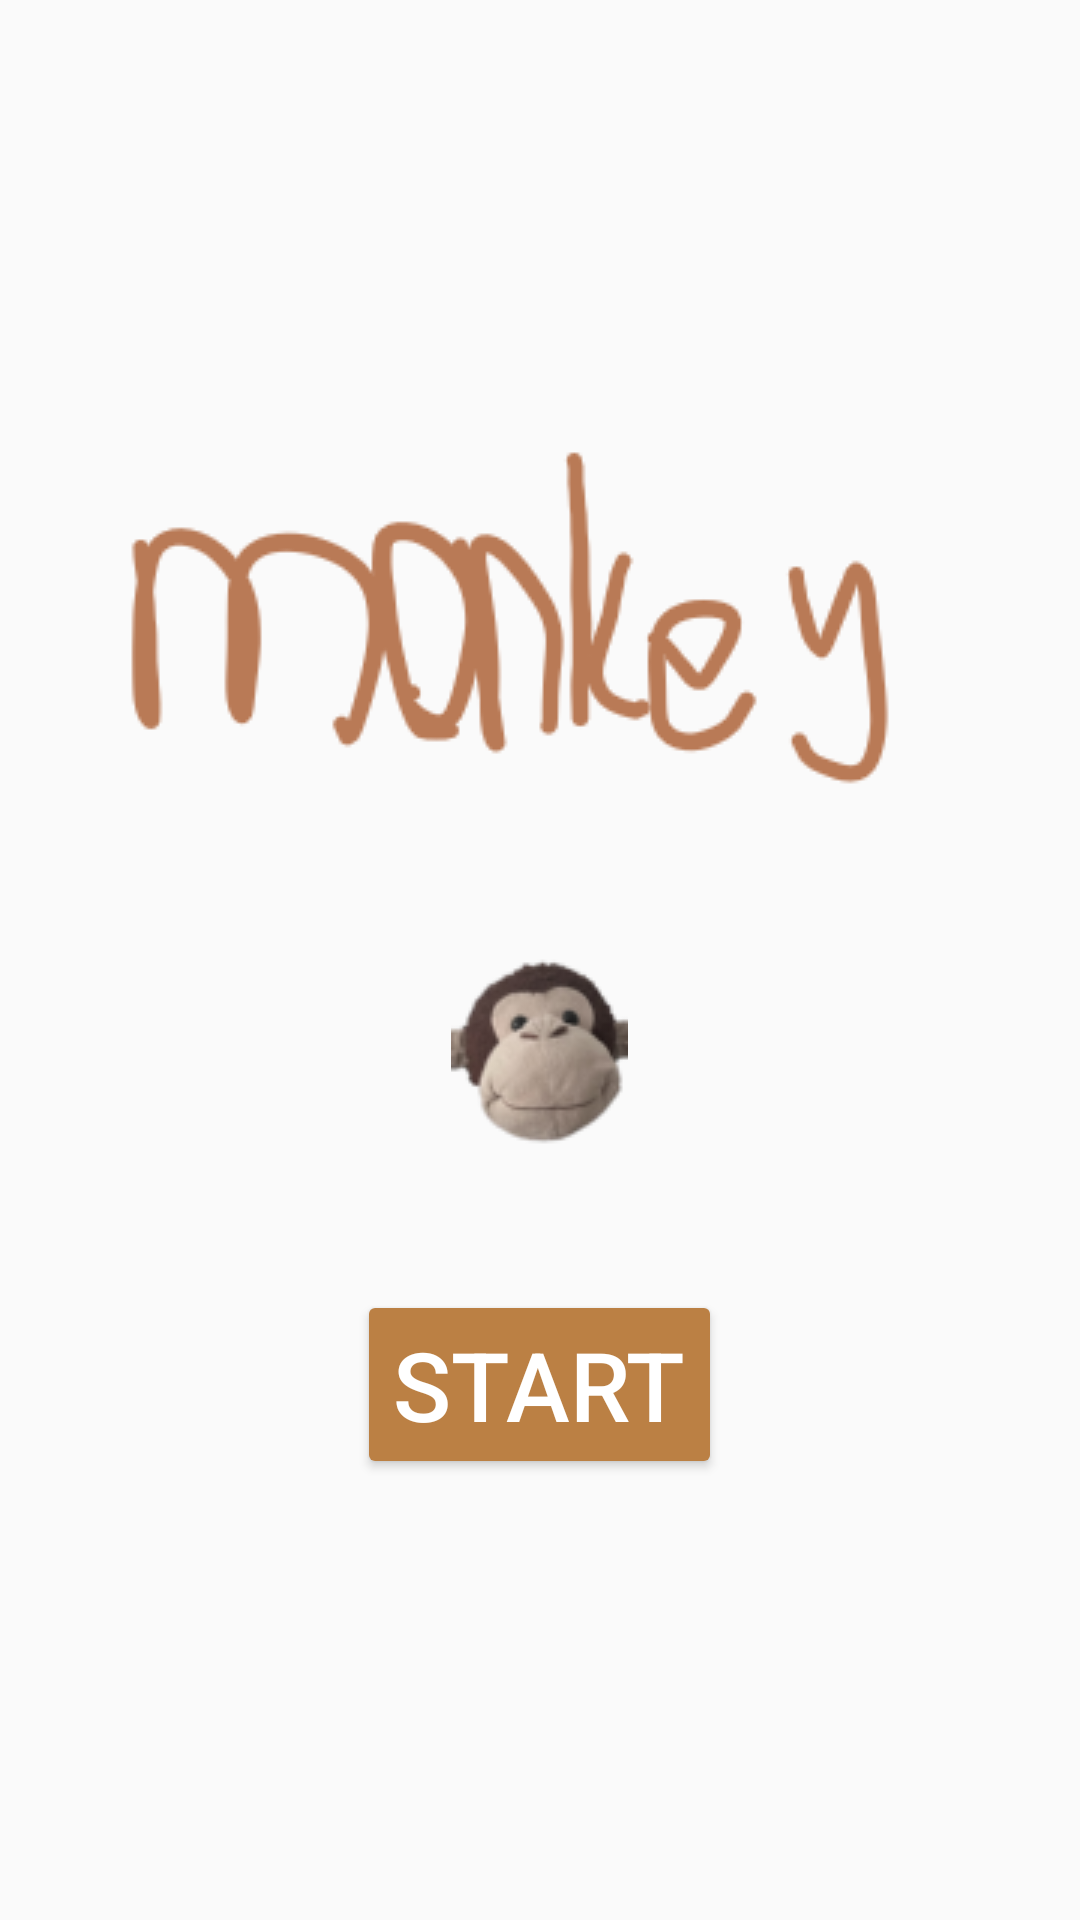

Where icons sit on this 1080*1920 app screen, as (x1, y1, x2, y2):
apina: (451, 962, 628, 1142)
